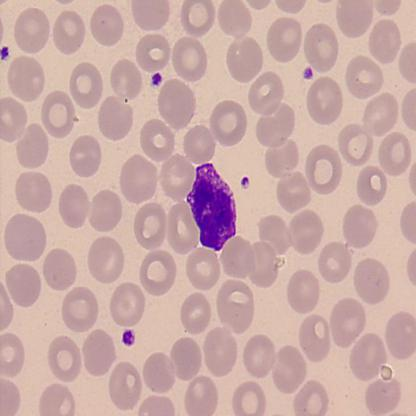Basophil: (186, 162, 239, 254)
